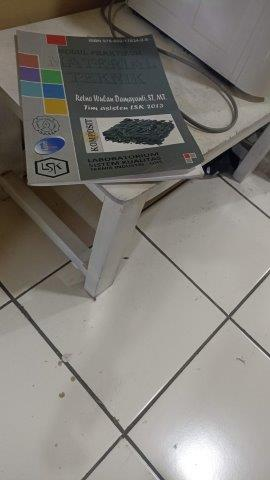kertas: (15, 30, 207, 187)
